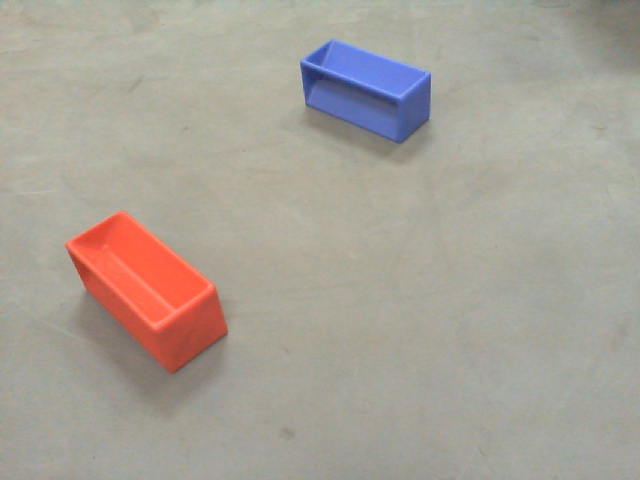BlueSample: (299, 39, 432, 146)
RedSample: (64, 208, 236, 375)
